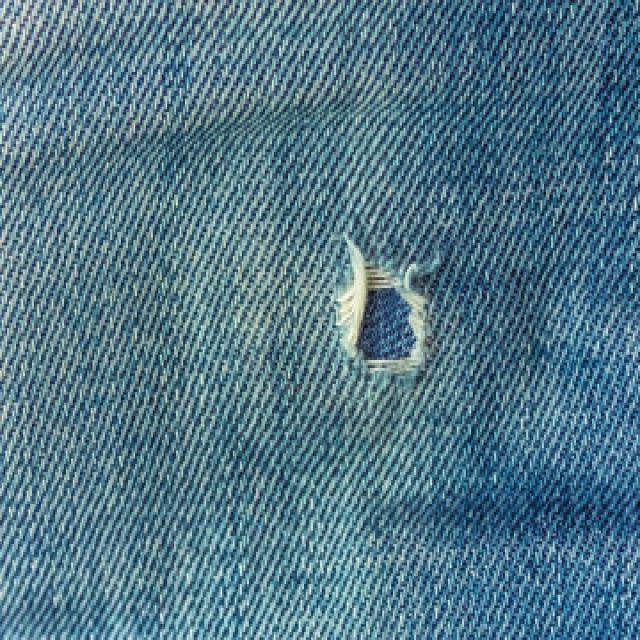Hole: (335, 238, 427, 375)
